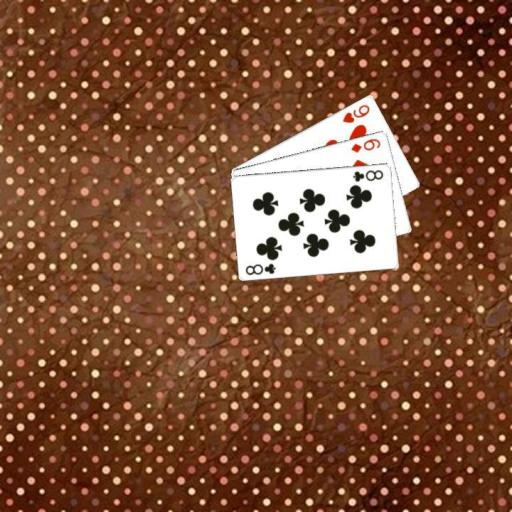6D: (348, 135, 382, 154)
8C: (350, 166, 385, 183), (243, 260, 278, 276)
9H: (339, 101, 371, 124)
